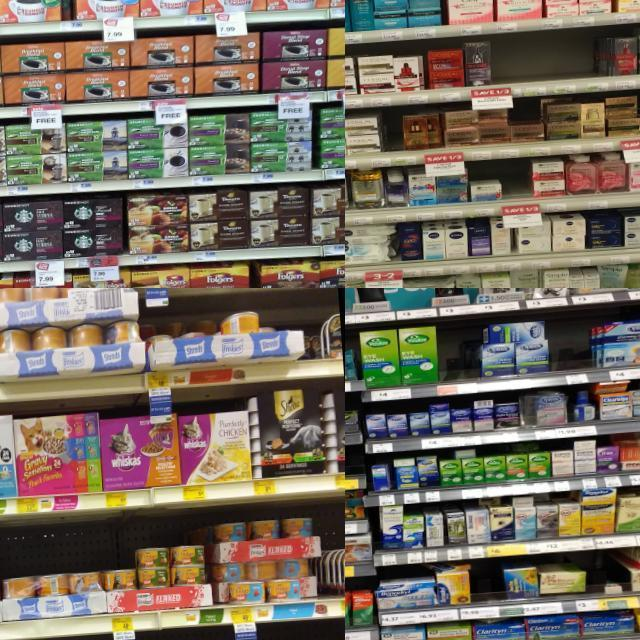Imprecise: (599, 575, 628, 597)
